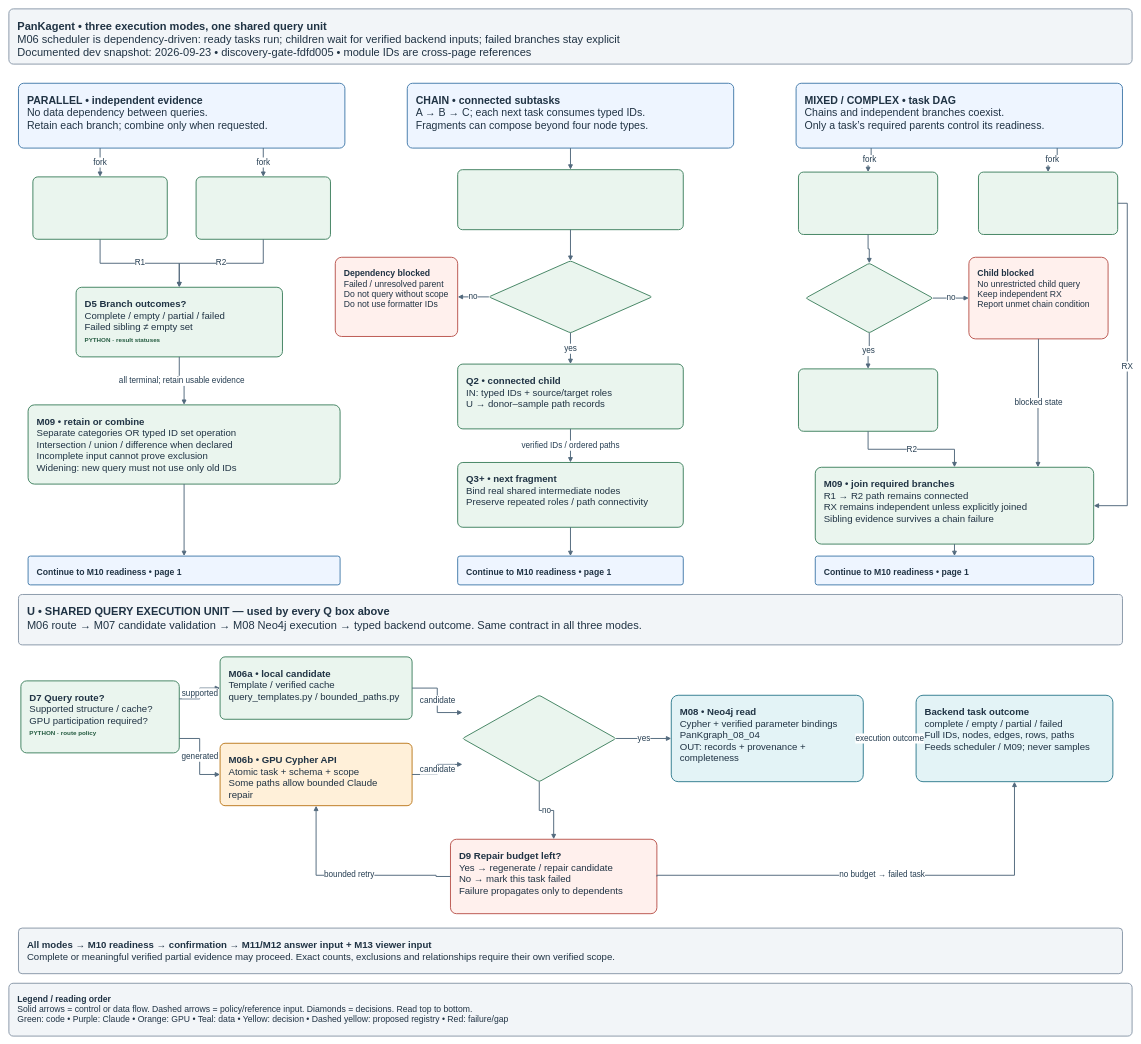
Image size: 1141x1044. Some labels were removed from this diagram. Here are the shapes that lost their labels. From the top down, the box of each, then its label:
(32, 176, 168, 240): Q1 • independent Run query unit U Return backend R1
(195, 176, 331, 240): Q2 • independent Run query unit U Return backend R2
(457, 169, 684, 230): Q1 • donor population U → full verified donor IDs / paths
(798, 171, 938, 235): Q1 • chain seed U → R1
(978, 171, 1118, 235): QX • independent U → RX
(488, 260, 652, 333): D6 Parent scope usable + bound? PYTHON · IDs/roles
(805, 263, 933, 333): D6 Parent scope usable? PYTHON · IDs/roles
(798, 368, 938, 432): Q2 • child R1 IDs → U → R2
(462, 695, 616, 782): D8 Common validation passes? PYTHON · validation rules
